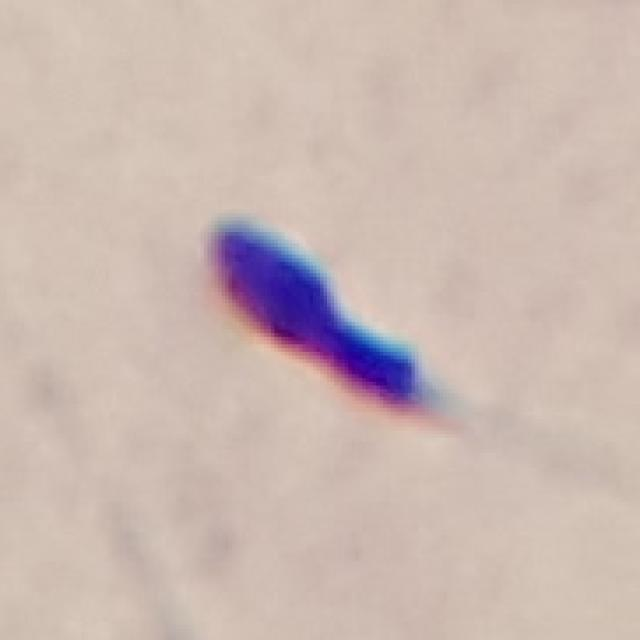abnormal sperm: (209, 213, 521, 451)
